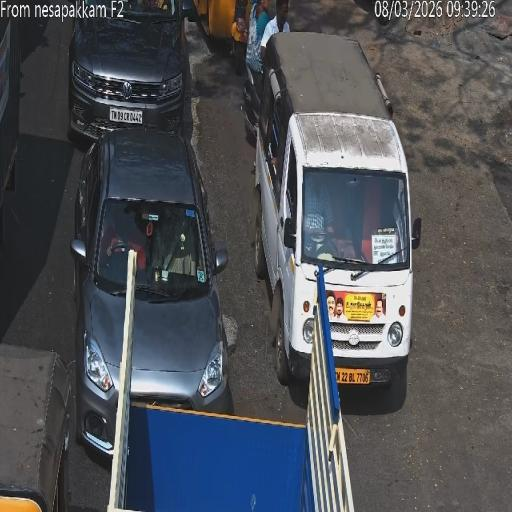person_with_seatbelt: (108, 213, 126, 258)
